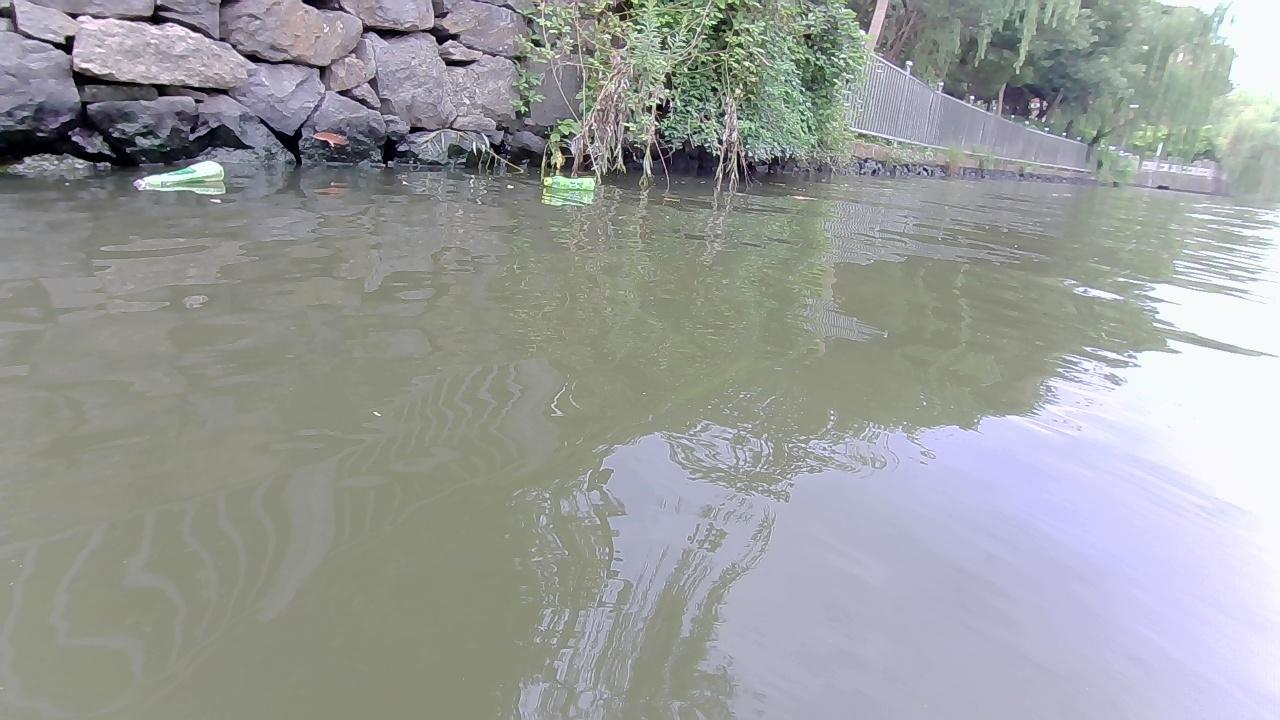bottle: (133, 159, 224, 188), (542, 174, 594, 189)
